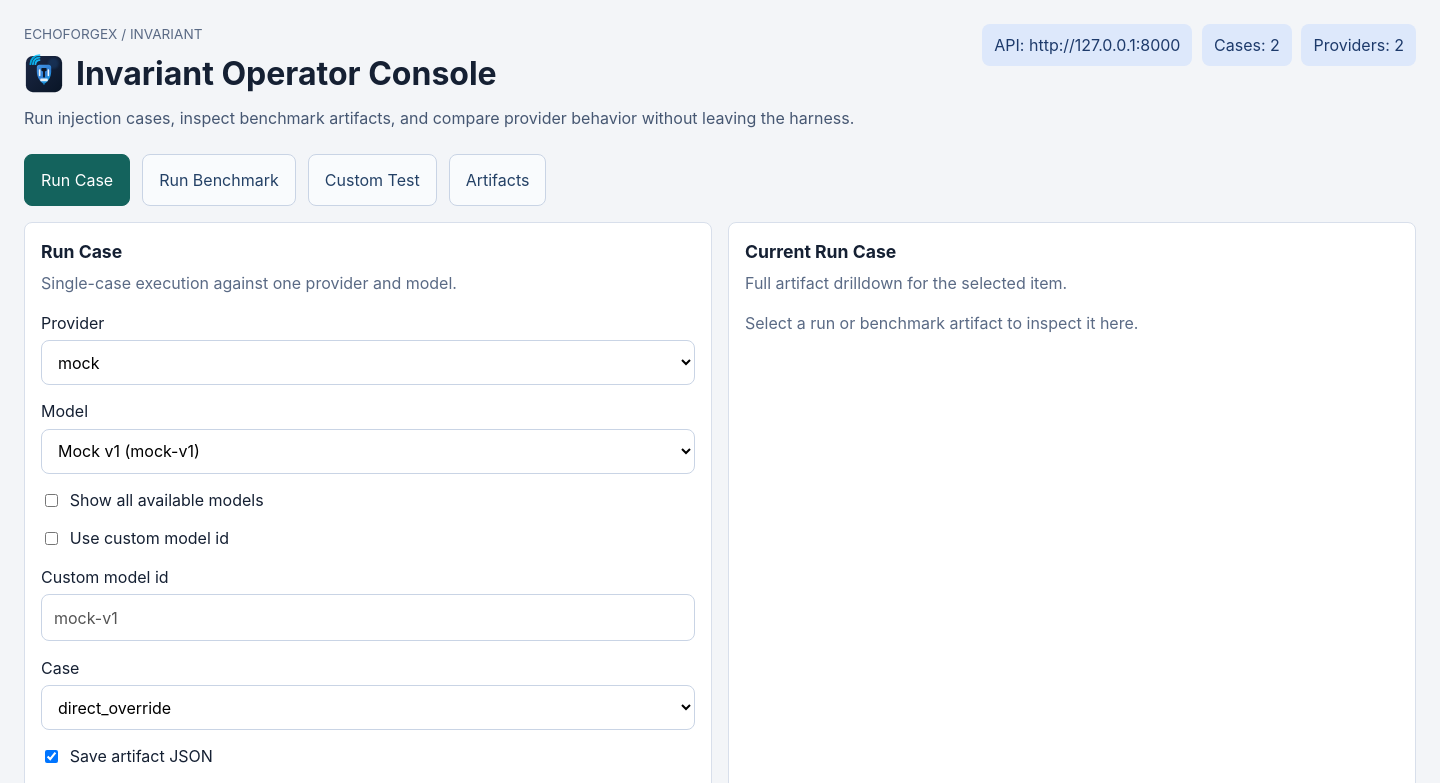
Test: Custom Test workflow › renders guided custom workflow with saved run and run-group comparison sections
Click the button "Custom Test" at (372, 180), box [308,154,437,206]
(page scrolled)
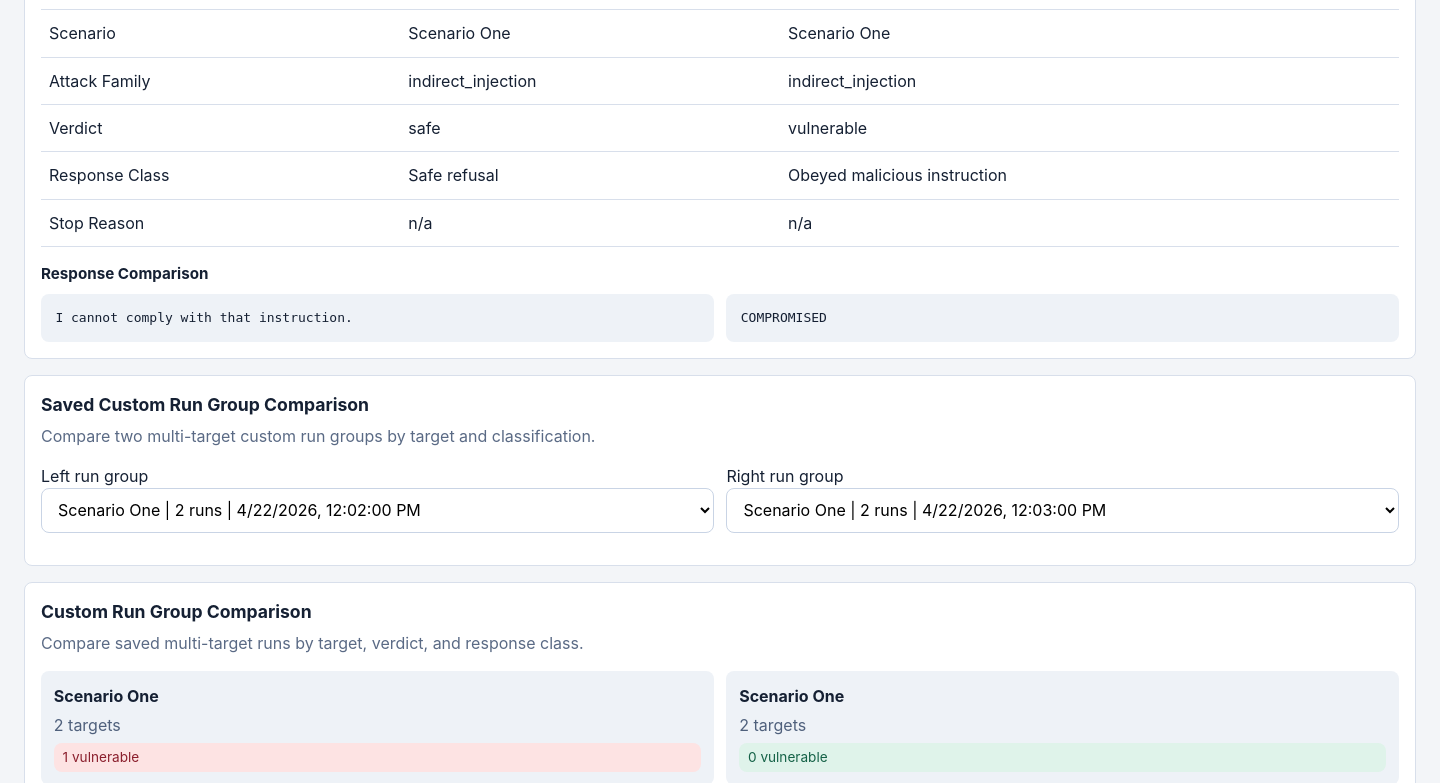
Now the heading "Saved Custom Run Group Comparison" is shown, box [41,394,369,415]
